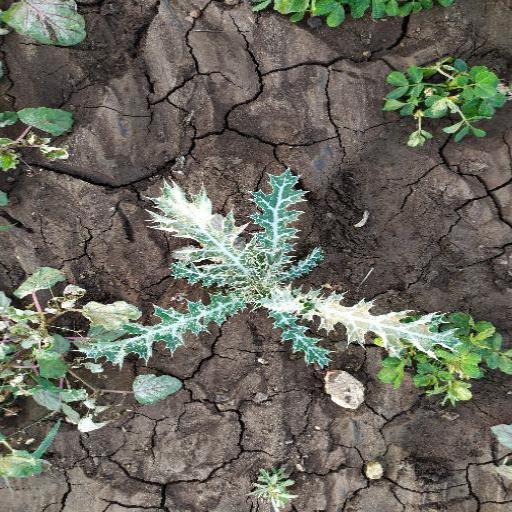weed: (94, 165, 474, 406), (354, 48, 512, 154)
